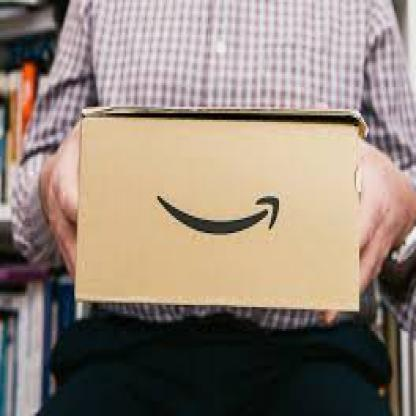package: (75, 103, 368, 316)
